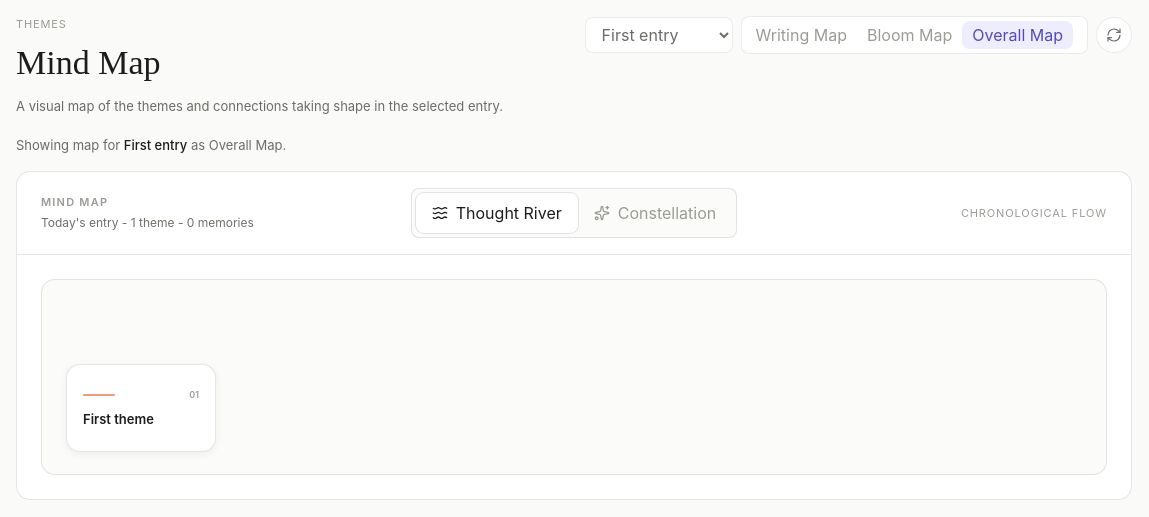
archive pages › loads a different map when the selected entry changes
Expected: the text "First theme" is shown, x1=83 y1=411 x2=154 y2=427
Step 1. Select "Second entry" in the dropdown named "Entry" → coordinates (659, 35), box x1=585 y1=17 x2=733 y2=53
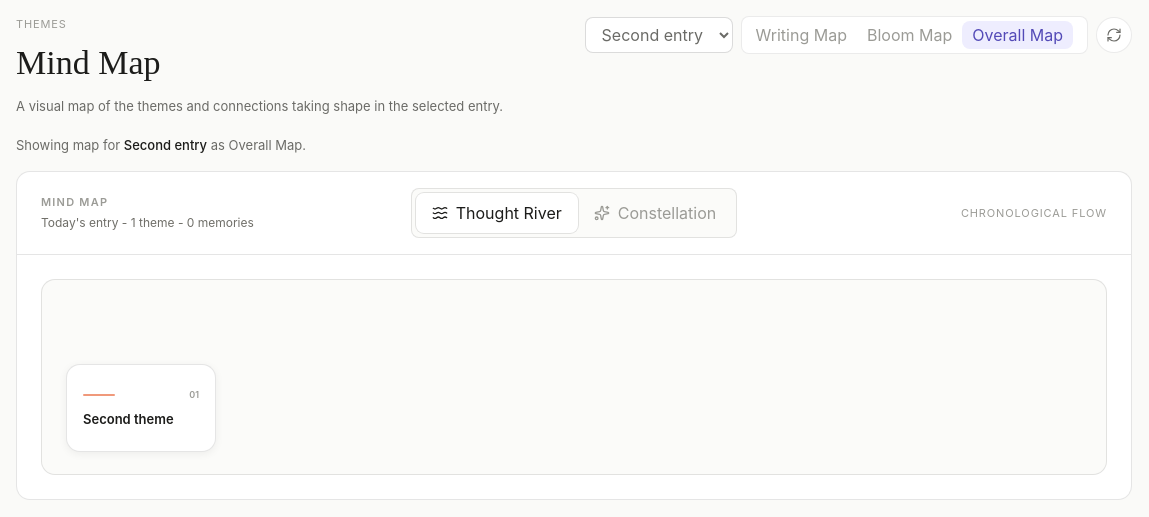
Result: the text "Second theme" is shown at x1=83 y1=411 x2=174 y2=427
